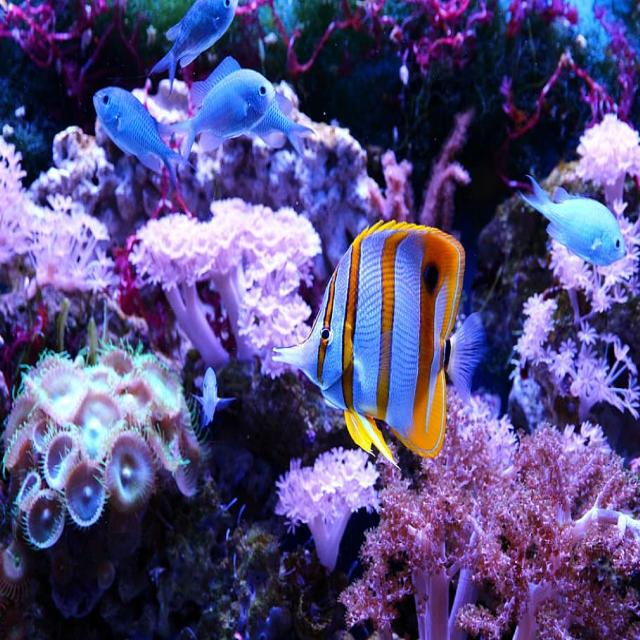ButterflyFish: (274, 222, 477, 468)
